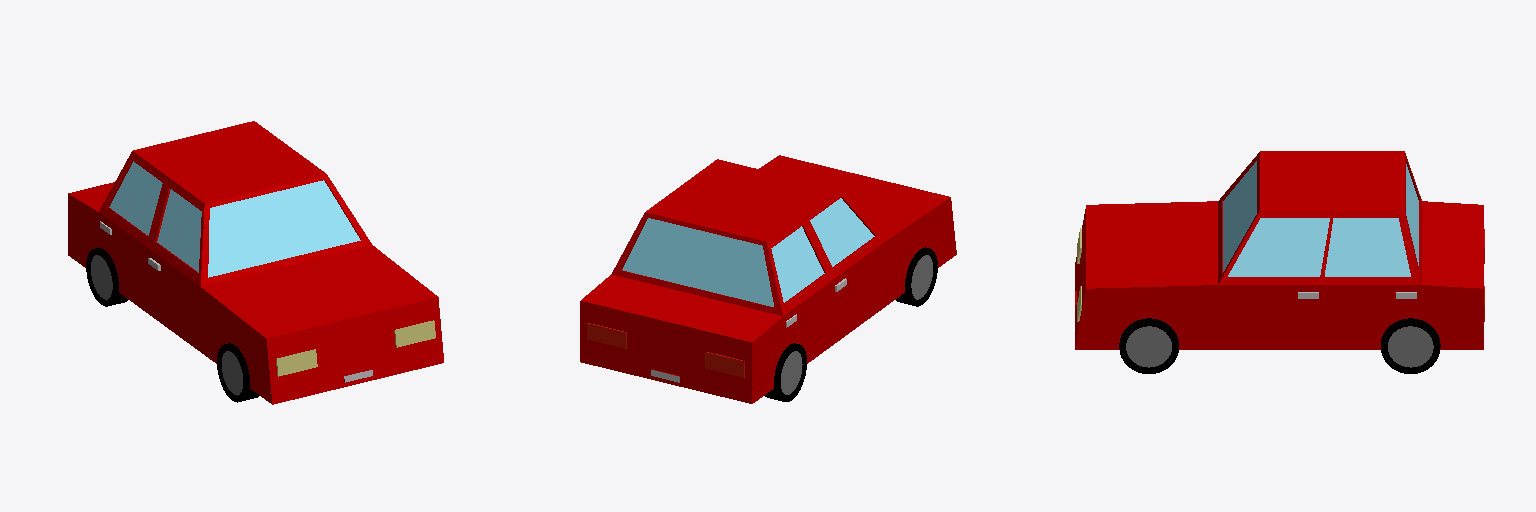
Rendered from redcar.obj.
The picture shows the model from 3 angles: view 1: azimuth 30°, elevation 25°; view 2: azimuth 150°, elevation 25°; view 3: azimuth 270°, elevation 25°; orthographic projection.
Visible parts, largest first — view 1: Cube.024_Cube, Cylinder.007, Cylinder.005_Cylinder.009; view 2: Cube.024_Cube, Cylinder.005_Cylinder.009, Cylinder.007; view 3: Cube.024_Cube, Cylinder.003, Cylinder.004_Cylinder.008.
Boxes of the visible parts, box(x1,y1,x2,y2) form: Cube.024_Cube: box(68, 121, 443, 404); Cylinder.007: box(217, 343, 259, 402); Cylinder.005_Cylinder.009: box(86, 248, 127, 306); Cube.024_Cube: box(580, 155, 956, 403); Cylinder.005_Cylinder.009: box(764, 343, 806, 401); Cylinder.007: box(896, 247, 937, 306); Cube.024_Cube: box(1075, 151, 1484, 349); Cylinder.003: box(1119, 318, 1178, 373); Cylinder.004_Cylinder.008: box(1381, 318, 1440, 373).
Bounding box in the file's own units: 0.2311 × 0.1842 × 0.4592.